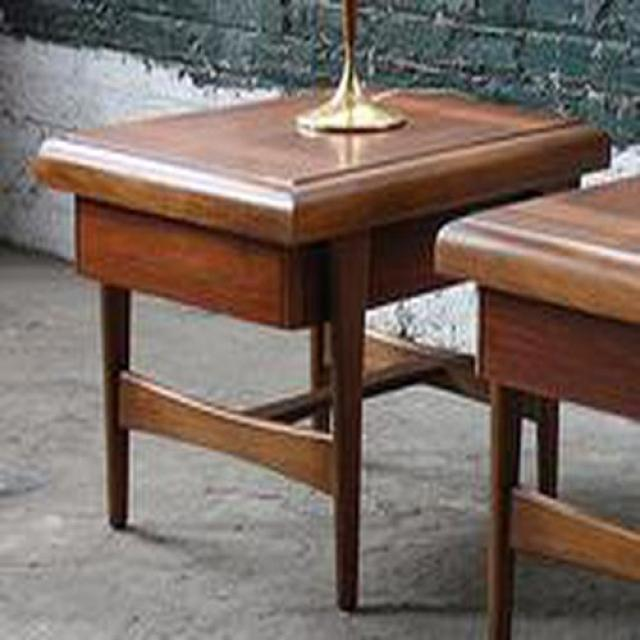table: (28, 28, 613, 609)
